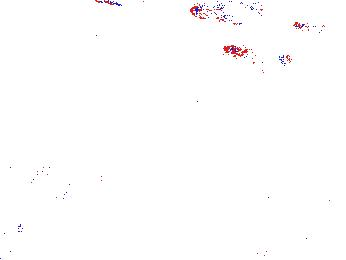X-ray fish: (31, 157, 105, 197), (152, 132, 228, 166)
red belly glassfish: (293, 18, 334, 35)
redtail glassfish: (224, 41, 299, 76), (189, 1, 268, 28)
